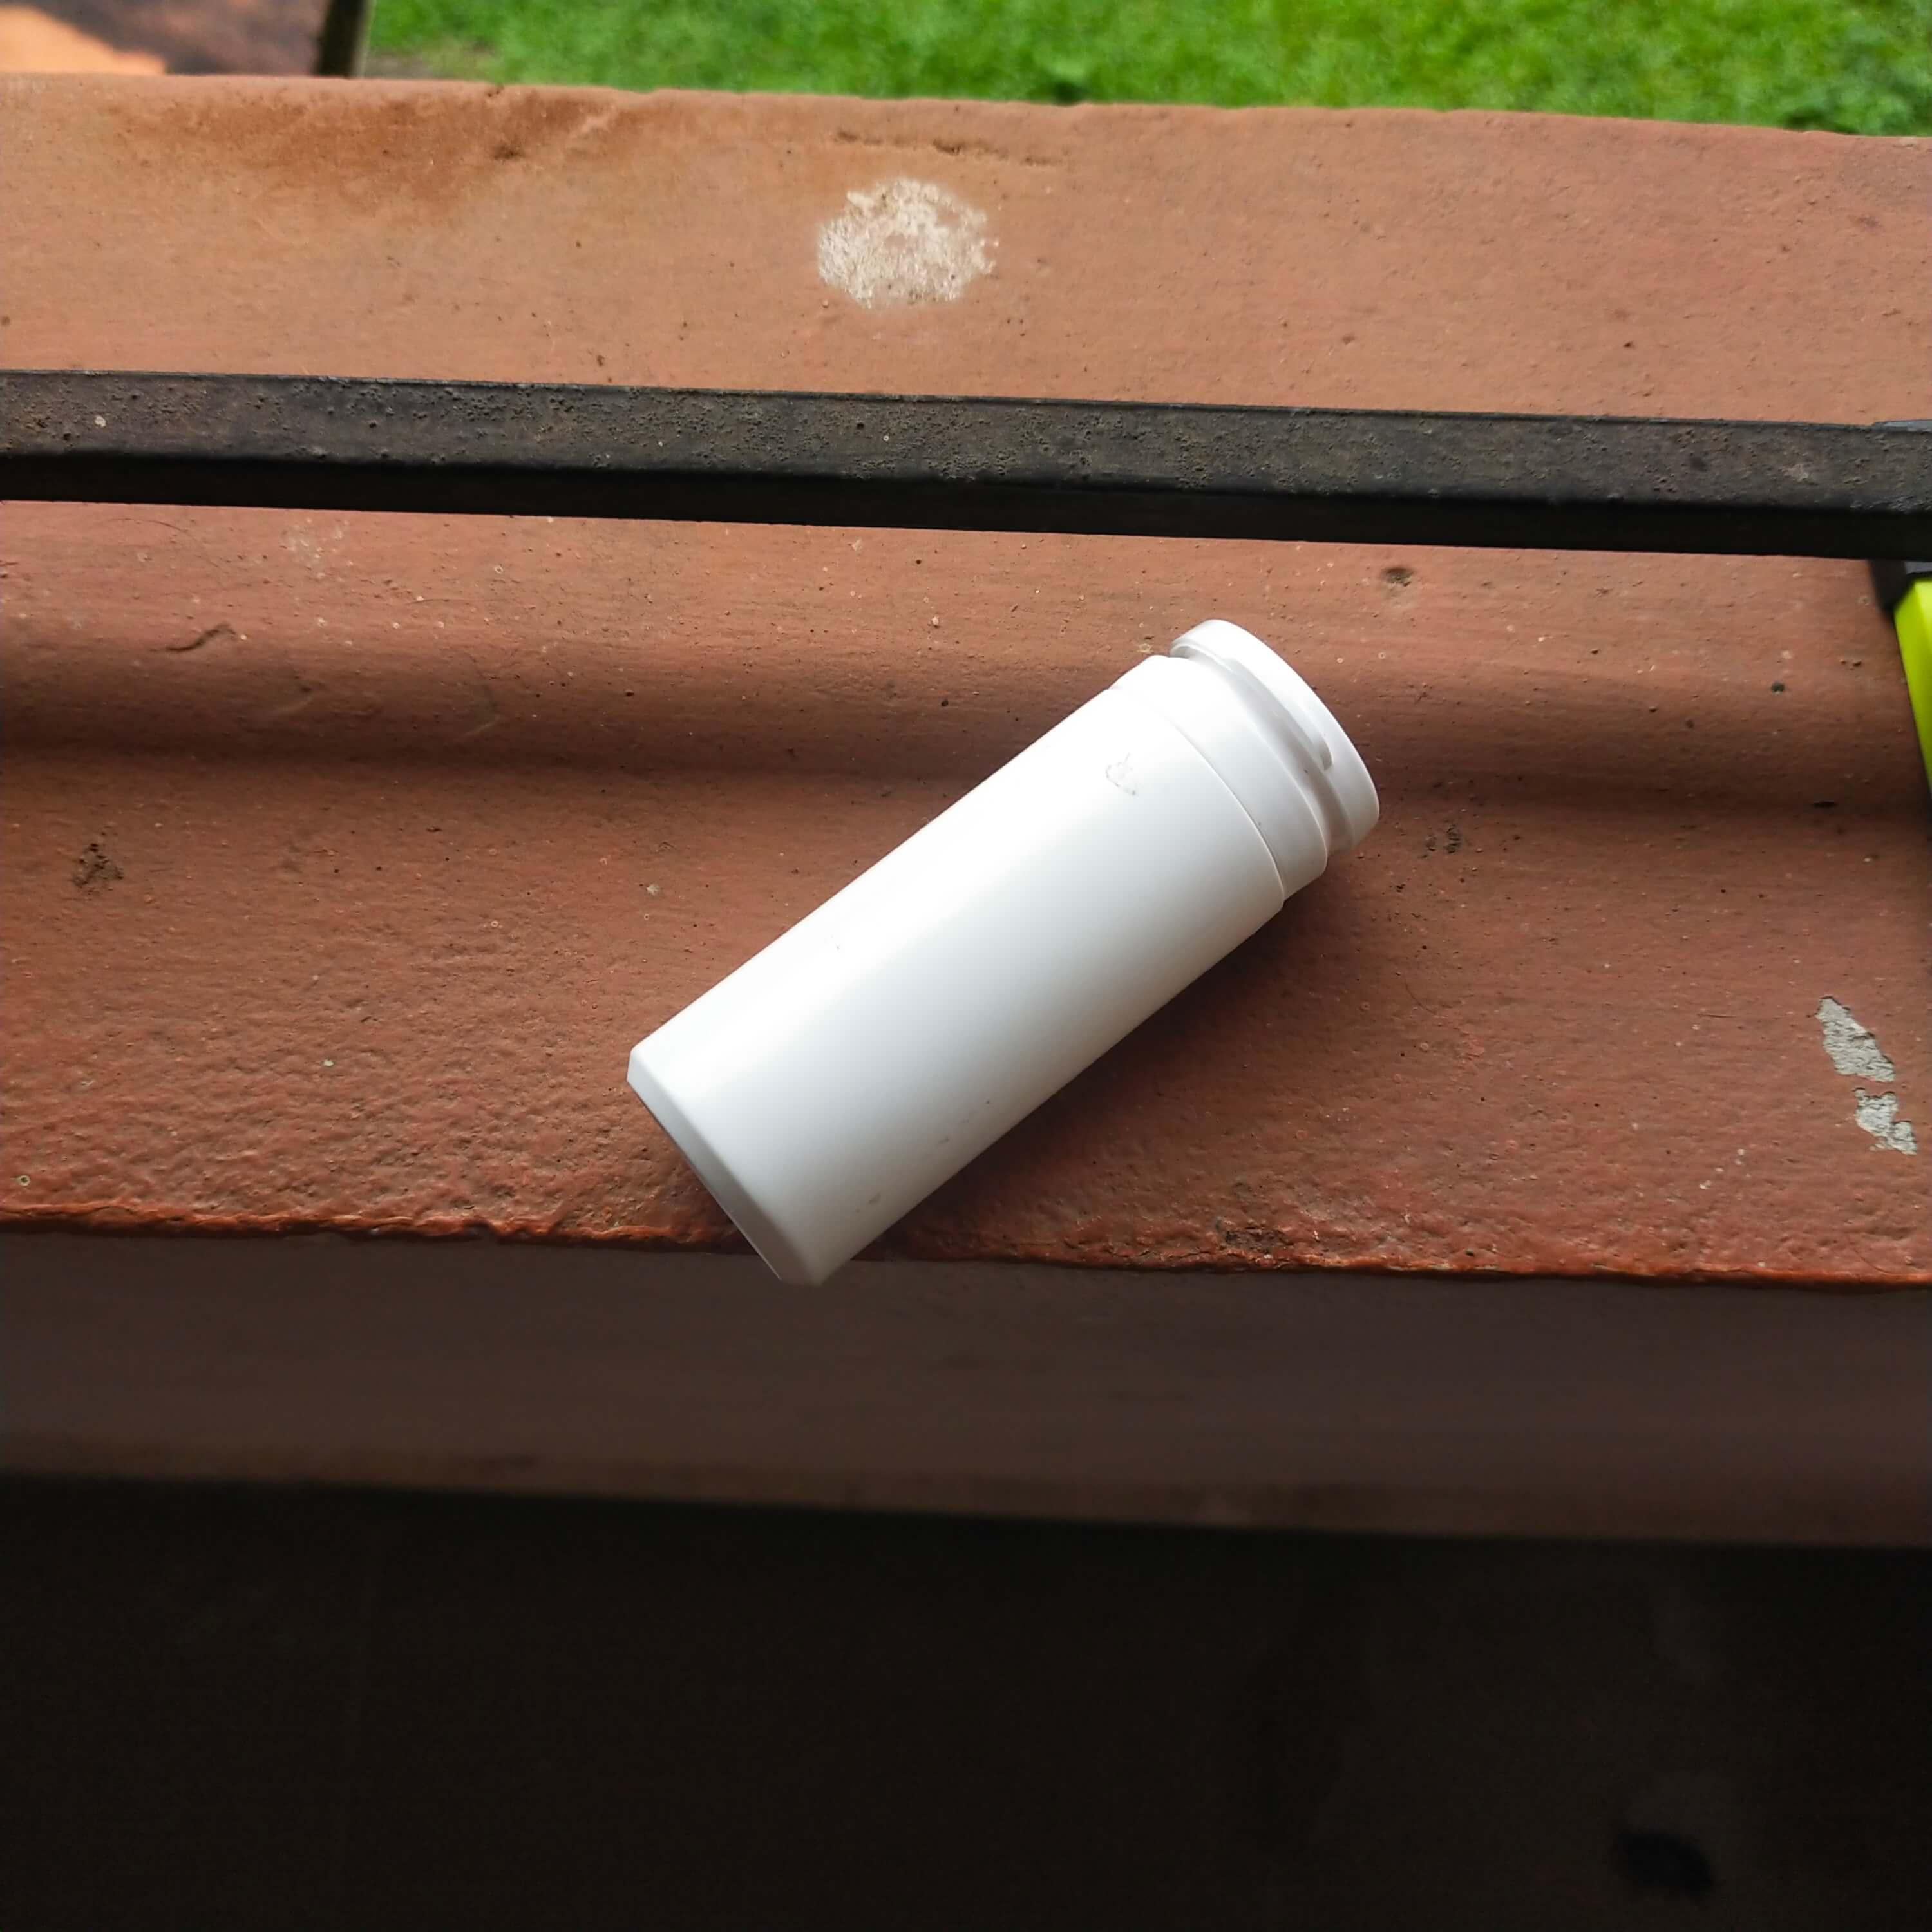plastic box: (522, 589, 1428, 1323)
